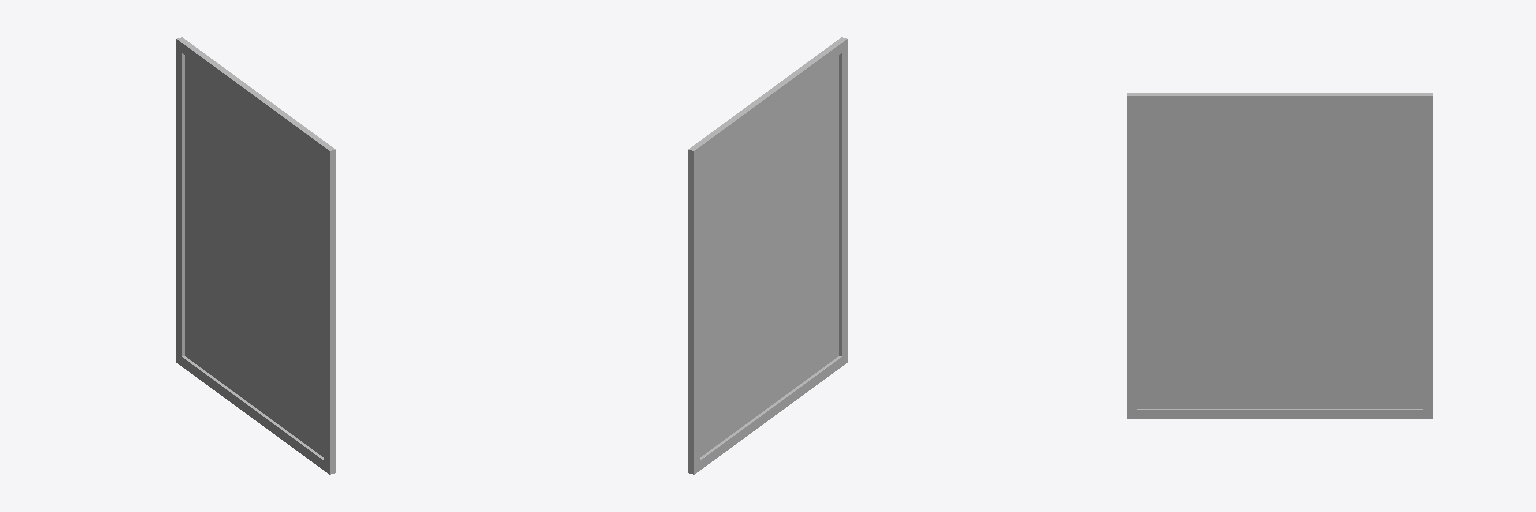
Rendered from Painting.obj.
3 views of the same model, side by side, from view 1: azimuth 30°, elevation 25°; view 2: azimuth 150°, elevation 25°; view 3: azimuth 270°, elevation 25° (orthographic).
Visible parts, largest first — view 1: Mesh1 Base1 Model, Mesh5 Vertical2 Model, Mesh3 Vertical1 Model, Mesh7 Horizontal1 Model, Mesh9 Horizontal2 Model; view 2: Mesh1 Base1 Model, Mesh3 Vertical1 Model, Mesh5 Vertical2 Model, Mesh7 Horizontal1 Model, Mesh9 Horizontal2 Model; view 3: Mesh1 Base1 Model, Mesh7 Horizontal1 Model, Mesh3 Vertical1 Model, Mesh5 Vertical2 Model, Mesh9 Horizontal2 Model.
Part boxes in pixels (bbox=[...]): Mesh1 Base1 Model: bbox=[185, 55, 323, 456]; Mesh5 Vertical2 Model: bbox=[324, 146, 335, 474]; Mesh3 Vertical1 Model: bbox=[176, 37, 186, 363]; Mesh7 Horizontal1 Model: bbox=[176, 39, 335, 159]; Mesh9 Horizontal2 Model: bbox=[176, 354, 335, 474]; Mesh1 Base1 Model: bbox=[700, 55, 838, 456]; Mesh3 Vertical1 Model: bbox=[688, 146, 699, 474]; Mesh5 Vertical2 Model: bbox=[837, 37, 847, 365]; Mesh7 Horizontal1 Model: bbox=[688, 38, 847, 158]; Mesh9 Horizontal2 Model: bbox=[688, 354, 847, 473]; Mesh1 Base1 Model: bbox=[1137, 105, 1422, 408]; Mesh7 Horizontal1 Model: bbox=[1127, 93, 1432, 104]; Mesh3 Vertical1 Model: bbox=[1423, 93, 1432, 418]; Mesh5 Vertical2 Model: bbox=[1127, 93, 1136, 418]; Mesh9 Horizontal2 Model: bbox=[1127, 409, 1432, 418].
Size of the model in its own units: 0.75 by 38.29 by 32.89.